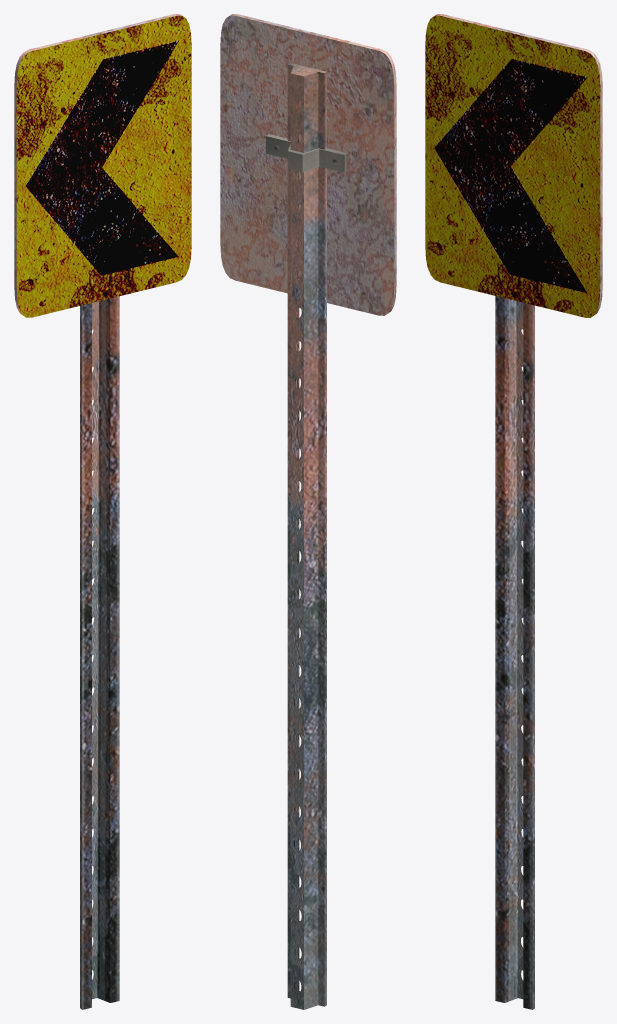
The model's file is Left_arrow_sign.FBX.
The picture shows the model from 3 angles, left to right: view 1: azimuth 30°, elevation 25°; view 2: azimuth 150°, elevation 25°; view 3: azimuth 330°, elevation 25°; orthographic projection.
Parts seen in each view (by area): view 1: Left_arrow_sign; view 2: Left_arrow_sign; view 3: Left_arrow_sign.
Boxes of the visible parts, box(x1,y1,x2,y2) form: Left_arrow_sign: box(14, 14, 191, 1009); Left_arrow_sign: box(220, 14, 396, 1009); Left_arrow_sign: box(425, 14, 602, 1009).
Bounding box in the file's own units: 52.9 × 281 × 7.97.
